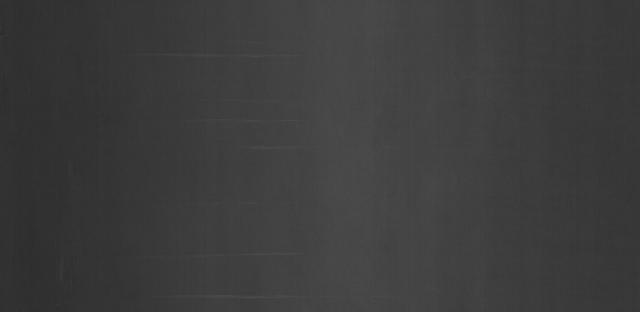waist_folding: (125, 22, 312, 276)
